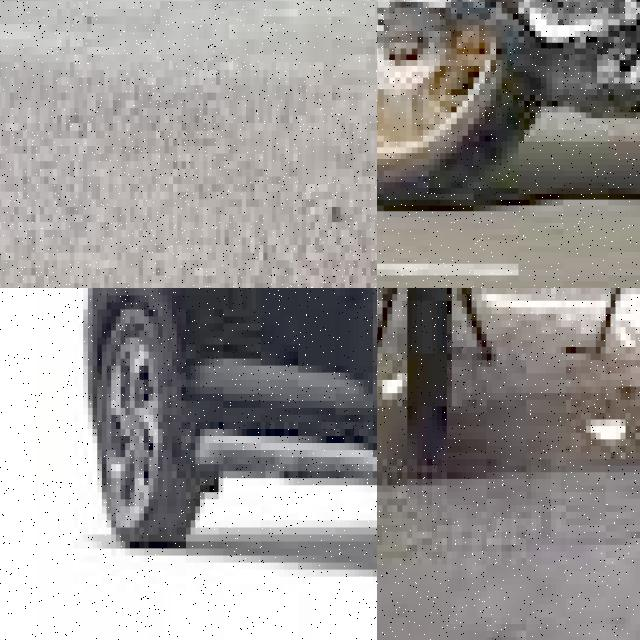bike: (377, 0, 640, 211), (377, 288, 546, 426), (546, 288, 640, 406)
car: (0, 288, 377, 640)
